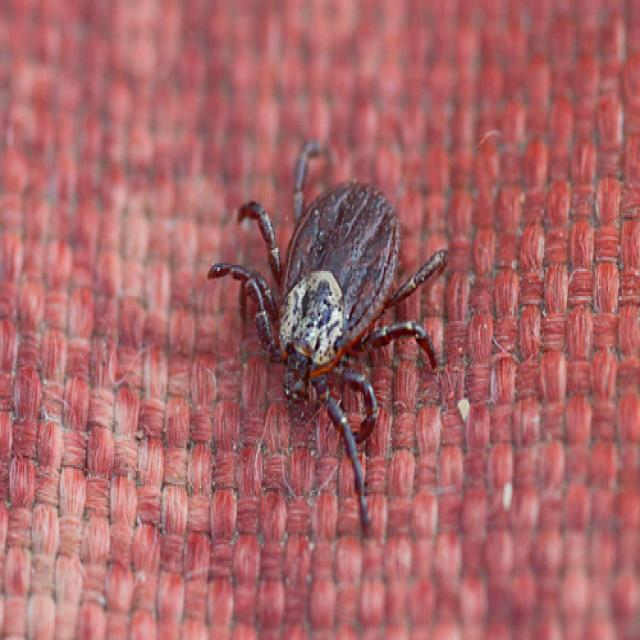Dermacentor Reticulatus-F: (206, 140, 448, 540)
